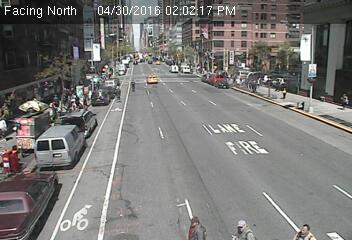neg: (304, 58, 323, 84), (66, 93, 80, 112), (263, 80, 276, 98), (147, 71, 157, 84), (296, 98, 306, 110), (279, 87, 288, 98), (201, 67, 207, 75)
pos: (185, 210, 206, 239), (233, 216, 251, 239), (298, 220, 312, 239), (338, 90, 351, 110)
